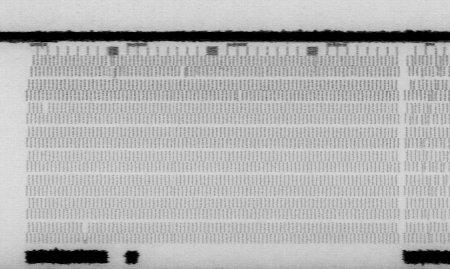Broken hole: (40, 102, 51, 114), (80, 223, 91, 234)
Oblique printing: (408, 53, 450, 175), (430, 174, 450, 219), (104, 54, 121, 80), (420, 220, 435, 243), (177, 65, 190, 78), (232, 88, 244, 100)
